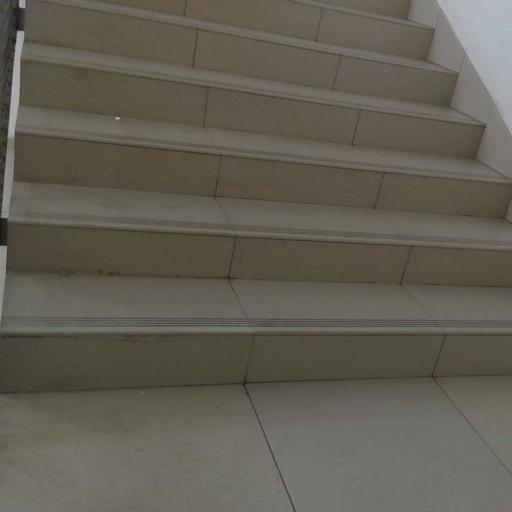stairs: (0, 0, 511, 390)
